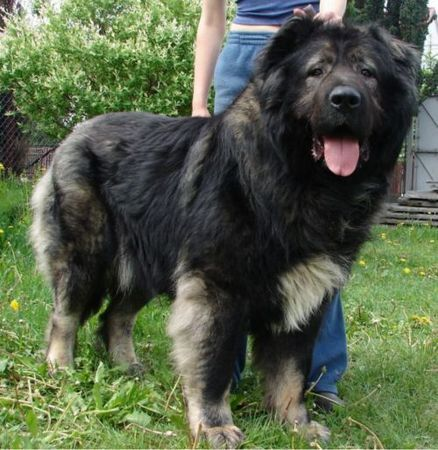cau_ovcharka: (27, 10, 422, 450)
person: (191, 0, 347, 414)
